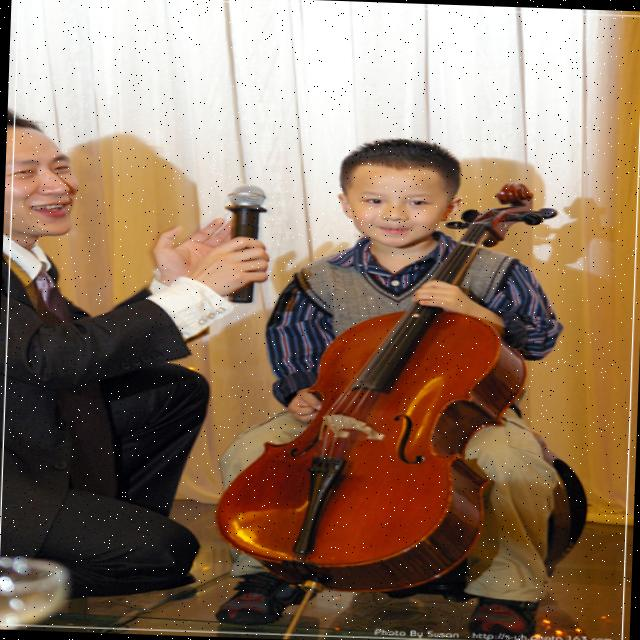cello: (212, 171, 564, 602)
